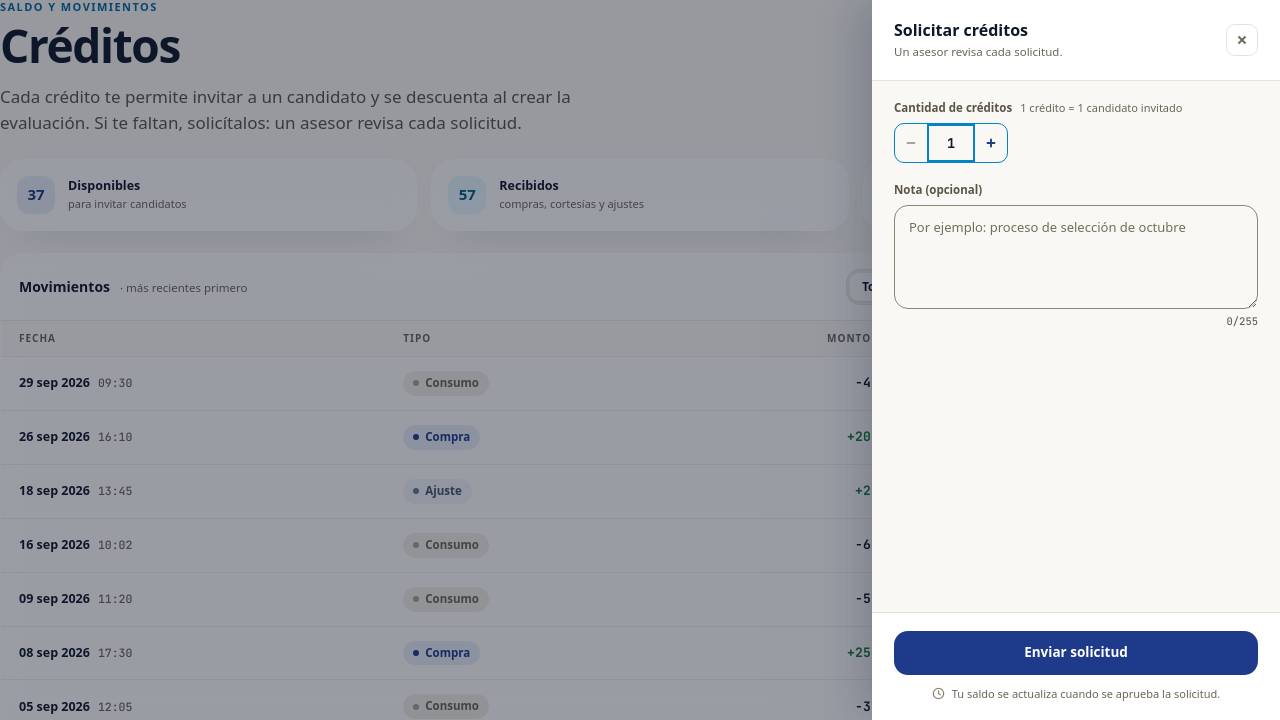
Test case: CreditosPage · solicitud de créditos › al enviar confirma la solicitud y el saldo no cambia (no se vuelve a pedir)
The width and height of the screenshot is (1280, 720).
Click the button named "Agregar un crédito". click: click(991, 143)
box: left=975, top=124, right=1007, bottom=162
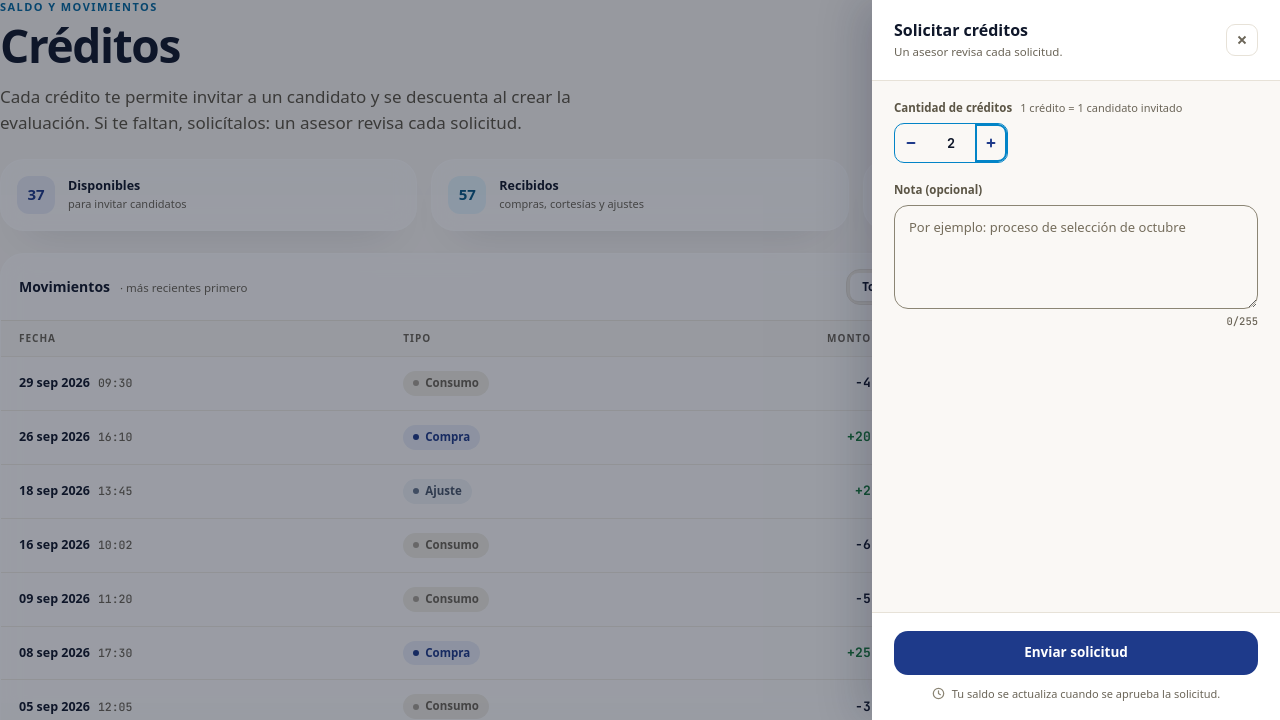
Click the button "Enviar solicitud". click: click(1076, 652)
box: left=894, top=630, right=1258, bottom=674
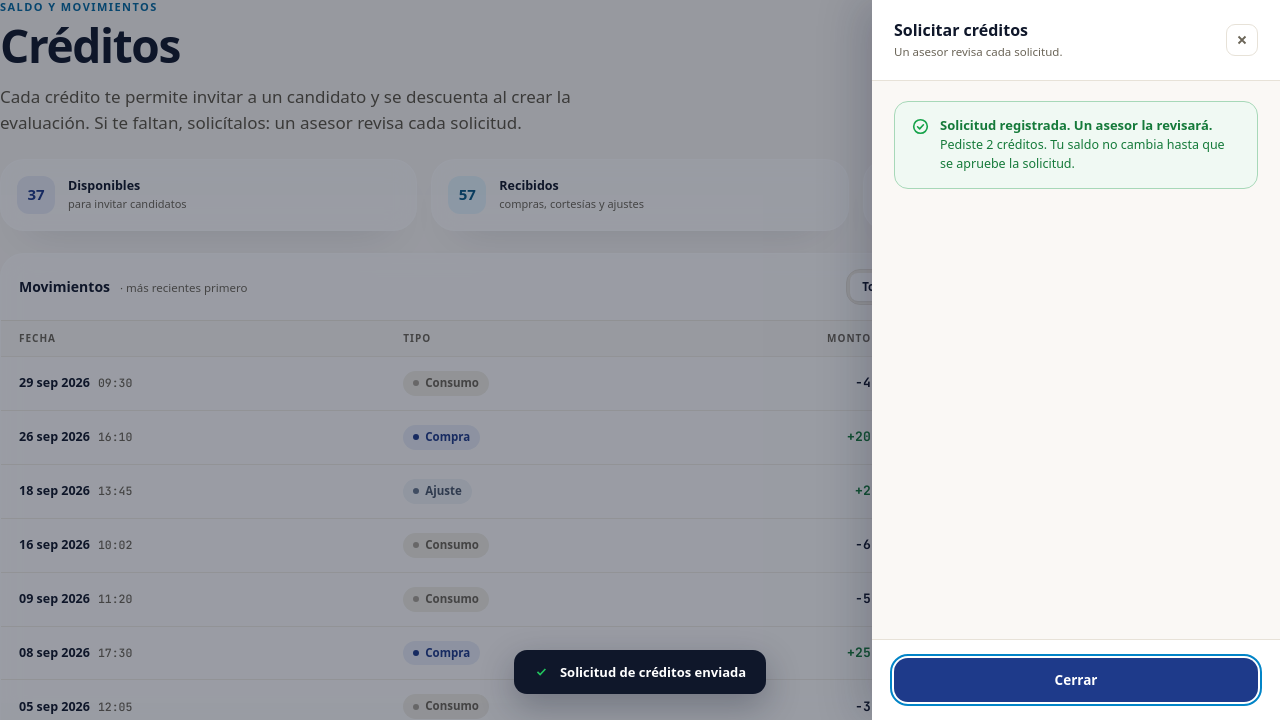
Expected: the text "Solicitud registrada. Un asesor la revisará." is shown 2 times
